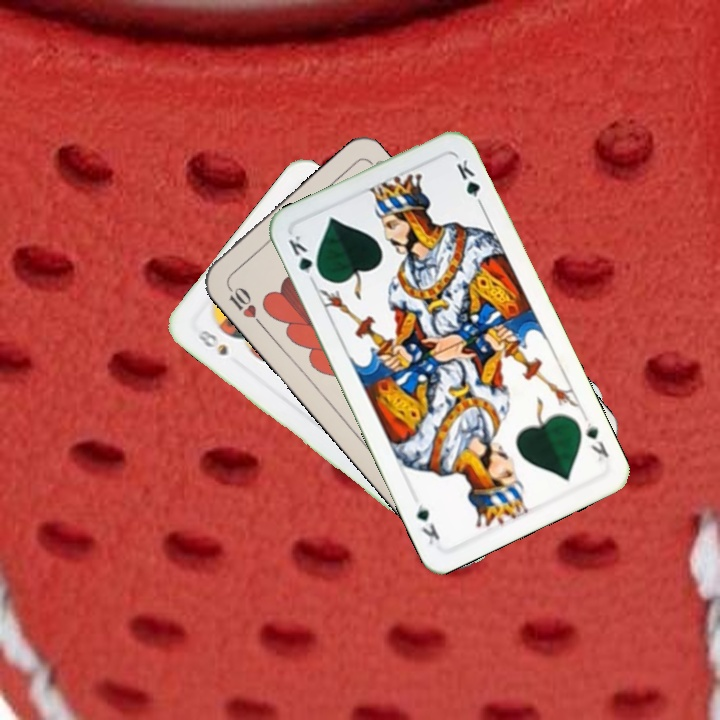GK: (284, 231, 325, 282), (582, 418, 612, 465)
H10: (222, 280, 266, 329)
S8: (193, 325, 231, 359)
